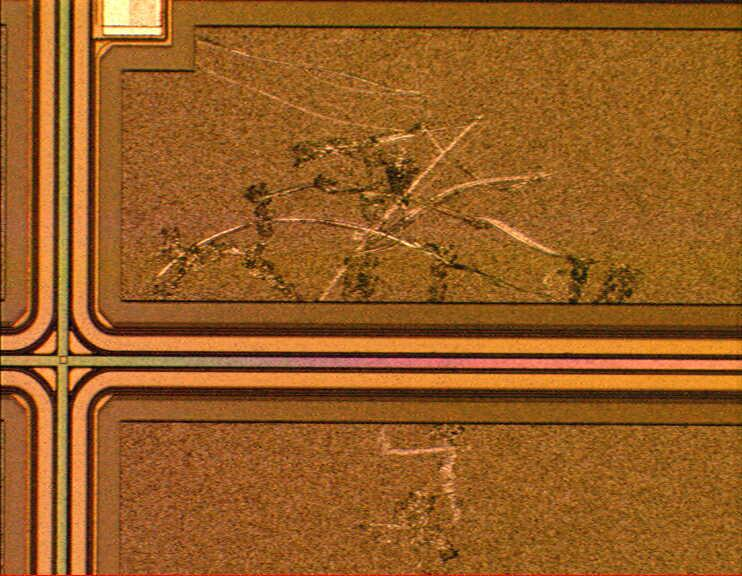SCRATCH: (151, 31, 646, 569)
